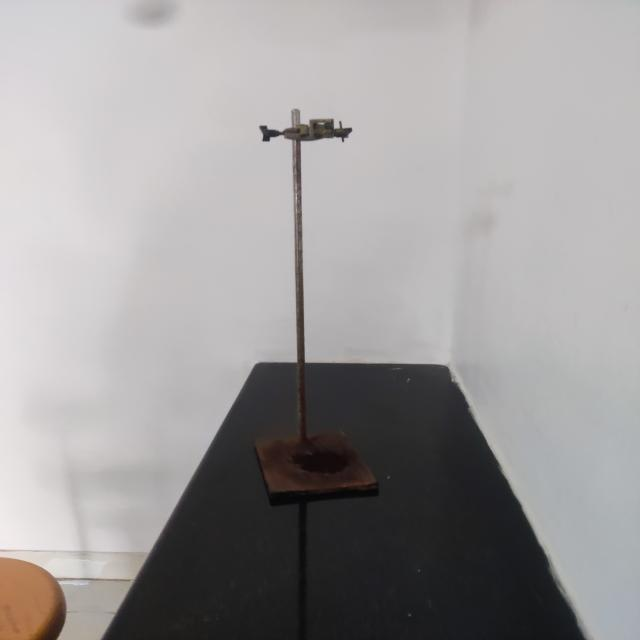Burette_Stands: (205, 74, 434, 540)
